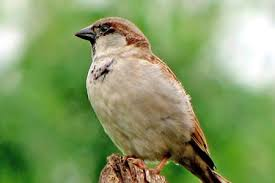hsparrow: (70, 12, 234, 183)
